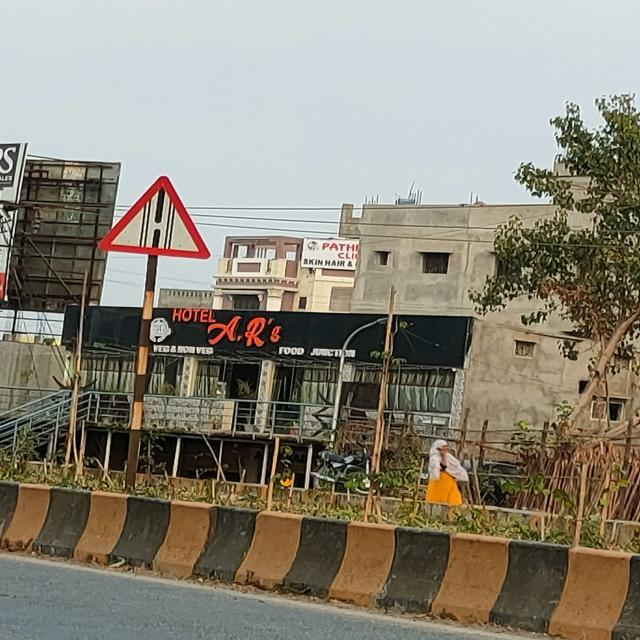gap in median: (87, 168, 212, 264)
